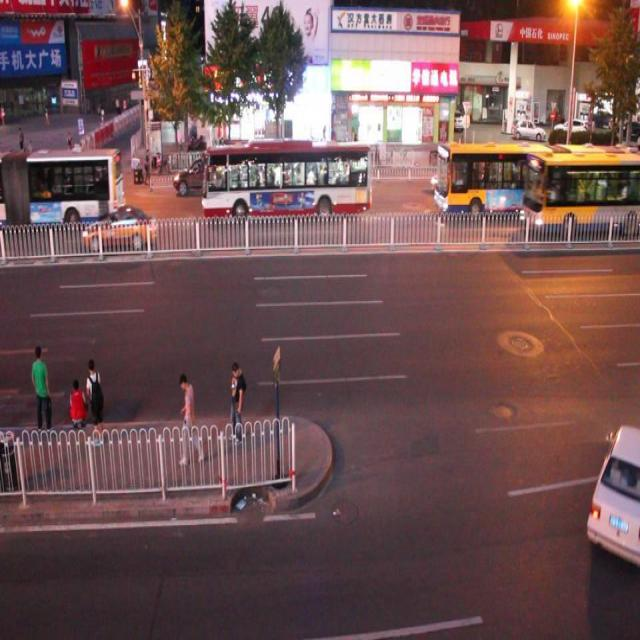BigCar: (204, 136, 372, 222), (521, 138, 639, 233), (0, 152, 124, 220), (436, 135, 523, 222)
car: (584, 416, 640, 564), (82, 208, 160, 254)
